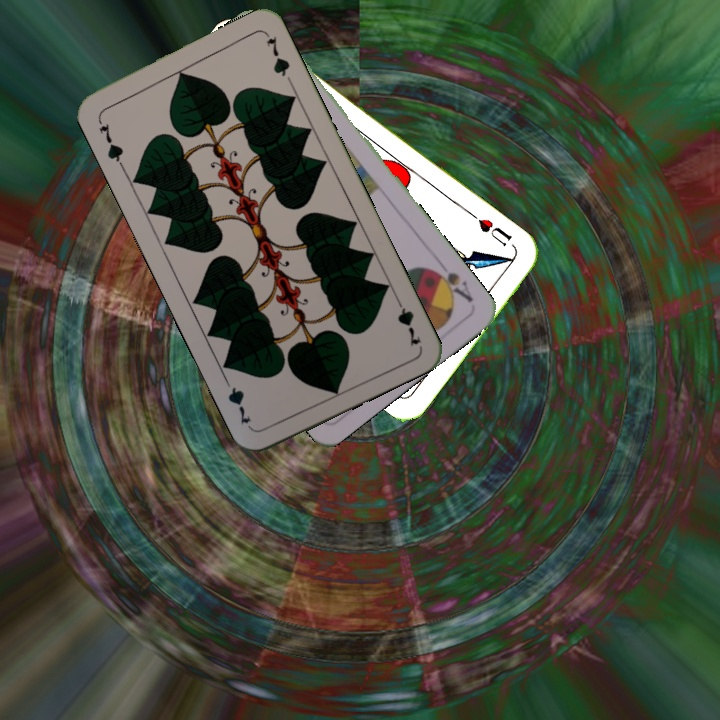G7: (390, 292, 424, 349), (93, 114, 126, 170)
HU: (467, 209, 515, 249)
SA: (426, 257, 476, 305)
